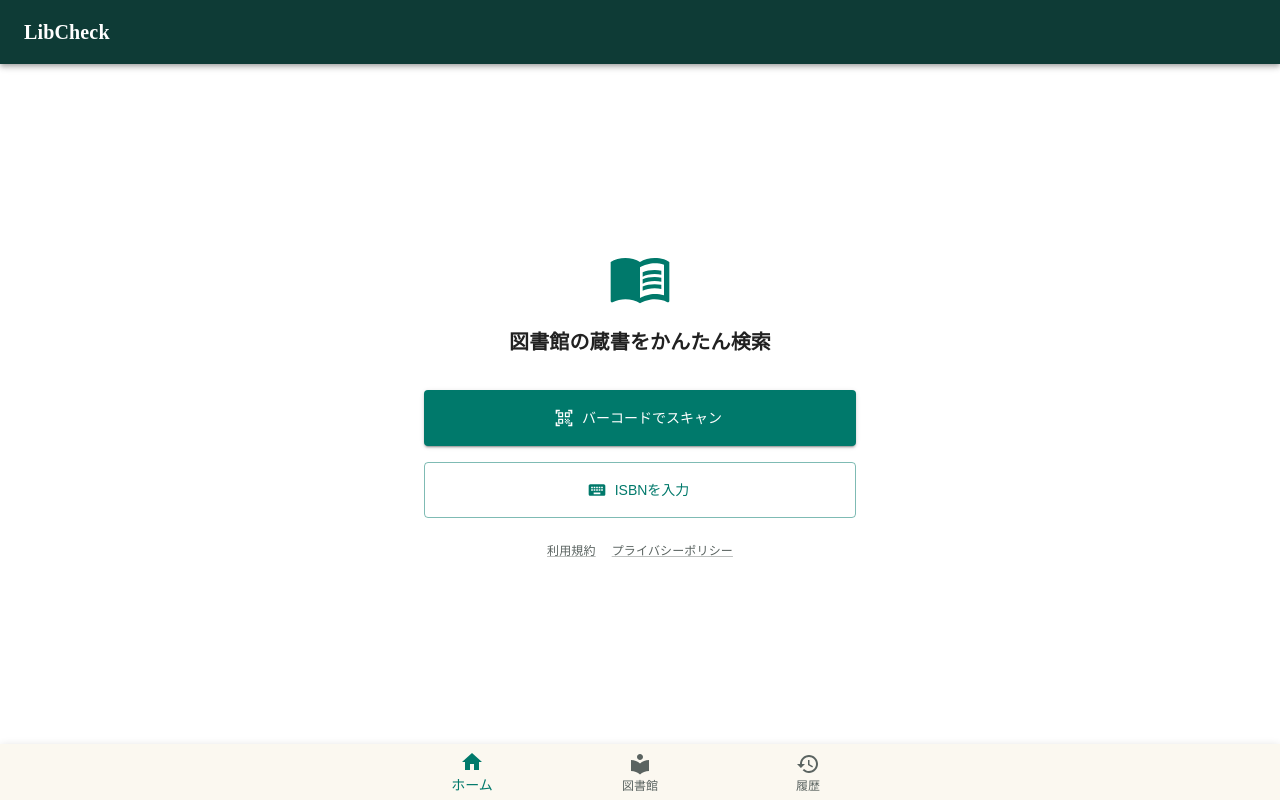
Test case: AppRouter › tapping history tab navigates to search history page
Expected: the text "LibCheck" is shown, [24,21,110,43]
Click the button "履歴". click: (808, 772)
box: [724,744,892,799]
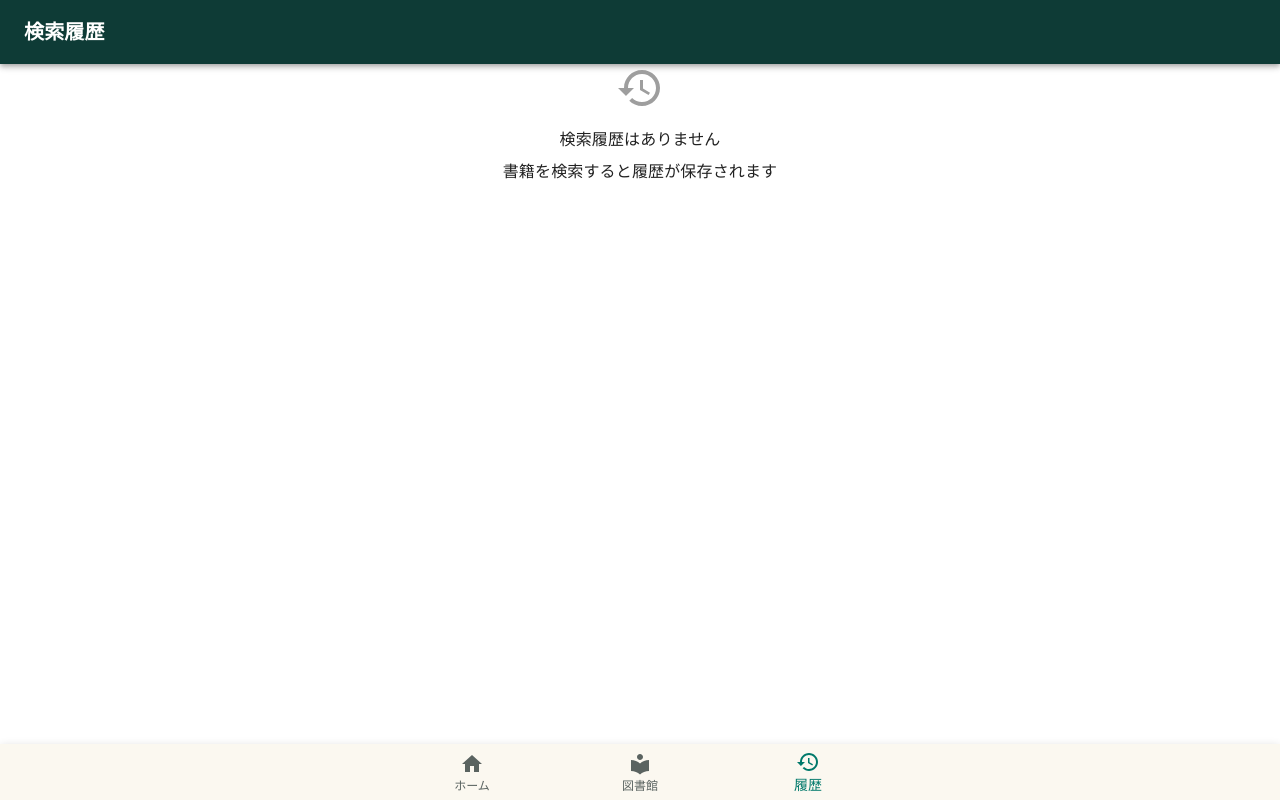
Expected: the text "検索履歴" is shown, [24,21,105,43]
